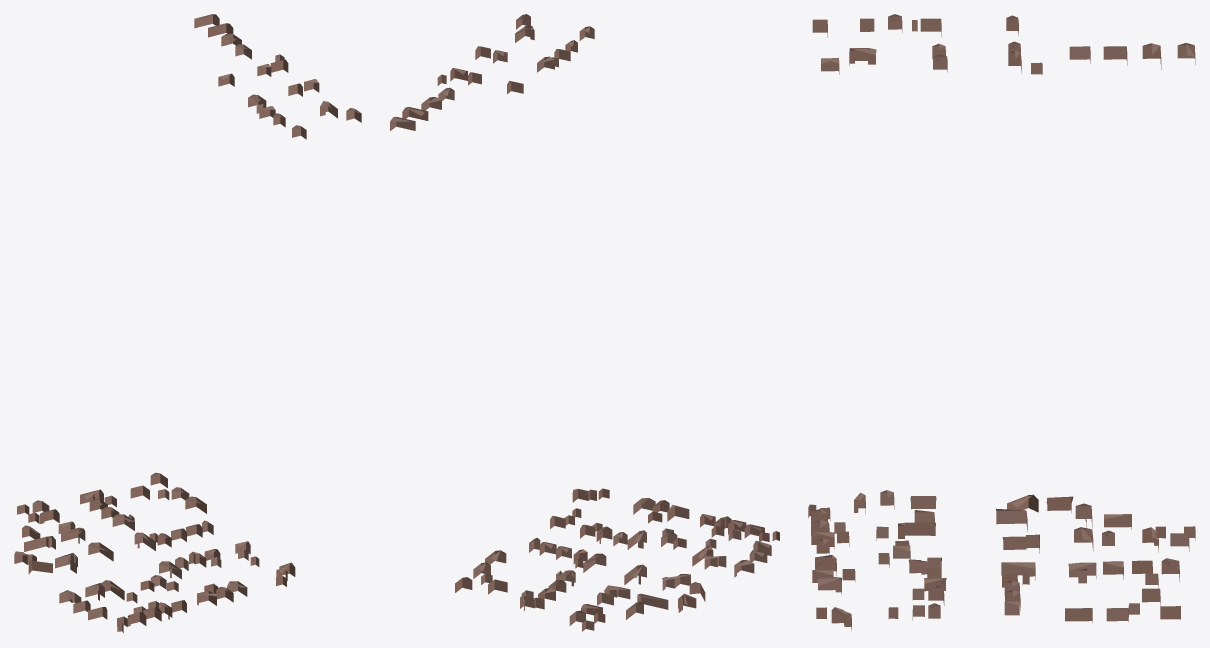
The model's file is c_1638_17820_buildings_residential.glb.
The picture shows the model from 3 angles, left to right: view 1: azimuth 30°, elevation 25°; view 2: azimuth 150°, elevation 25°; view 3: azimuth 270°, elevation 25°; orthographic projection. The views are drawn at different scales.
Visible parts, largest first — view 1: geometry_0; view 2: geometry_0; view 3: geometry_0.
Part boxes in pixels (x1,y1,x2,y2): geometry_0: [14, 14, 361, 632]; geometry_0: [390, 14, 779, 631]; geometry_0: [808, 14, 1195, 630].
Size of the model in its own units: 260 by 435 by 247.
